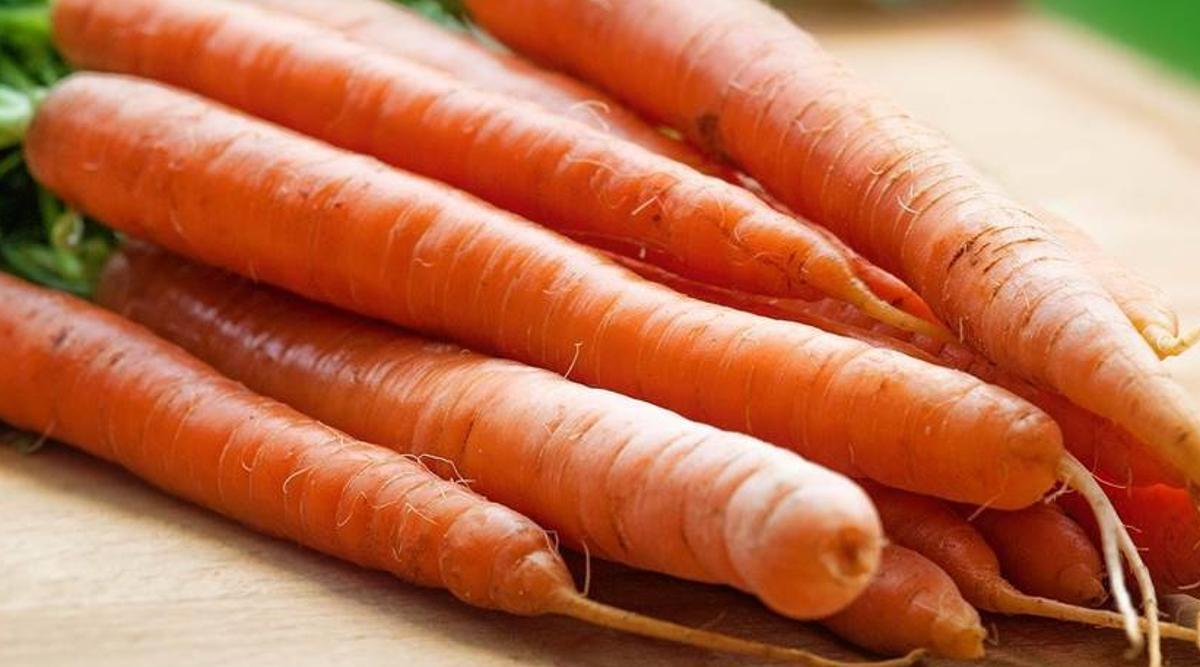carrot: (30, 8, 1200, 577)
